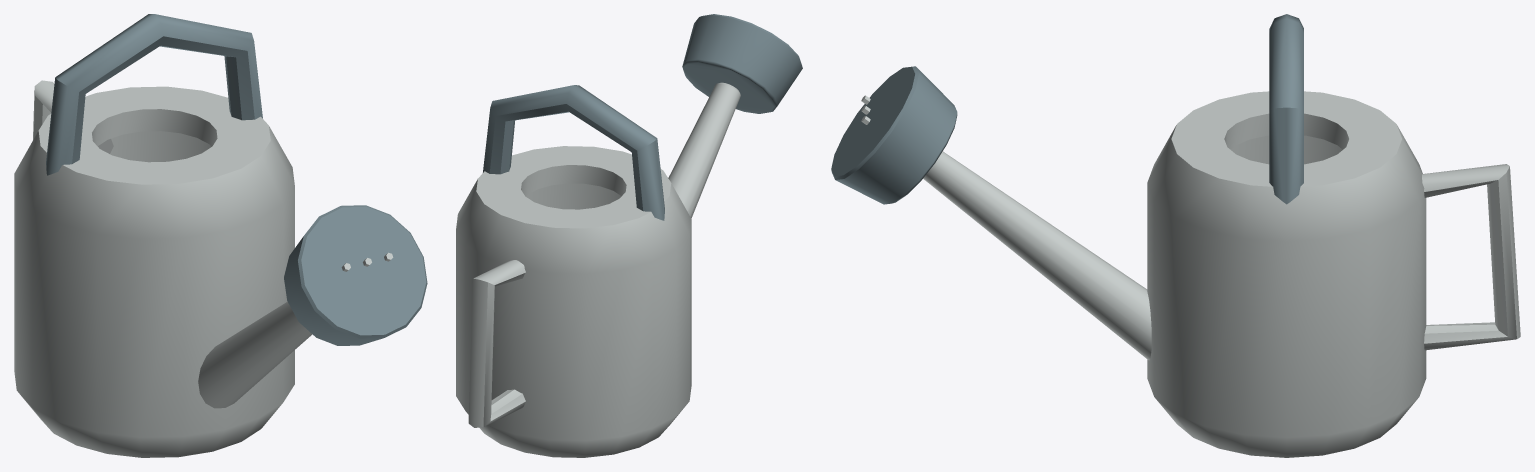
File: watering-can.glb
3 renders of one model, left to right at view 1: azimuth 30°, elevation 25°; view 2: azimuth 150°, elevation 25°; view 3: azimuth 270°, elevation 25°, orthographic. The views are drawn at different scales.
Visible parts, largest first — view 1: can_body, sprinkler_rose, carry_handle, spout, rear_handle; view 2: can_body, sprinkler_rose, carry_handle, rear_handle, spout; view 3: can_body, spout, sprinkler_rose, rear_handle, carry_handle.
Part boxes in pixels (x1,y1,x2,y2): can_body: (14, 86, 294, 457); sprinkler_rose: (284, 205, 427, 345); carry_handle: (46, 14, 262, 175); spout: (198, 302, 312, 408); rear_handle: (33, 80, 113, 153); can_body: (456, 146, 691, 457); sprinkler_rose: (682, 14, 802, 113); carry_handle: (483, 85, 664, 220); rear_handle: (468, 260, 525, 427); spout: (668, 82, 740, 218); can_body: (1147, 91, 1426, 457); spout: (923, 151, 1151, 360); sprinkler_rose: (831, 66, 957, 204); rear_handle: (1422, 164, 1520, 350); carry_handle: (1269, 14, 1303, 204).
Size of the model in its own units: 0.29 by 0.448 by 0.717.
